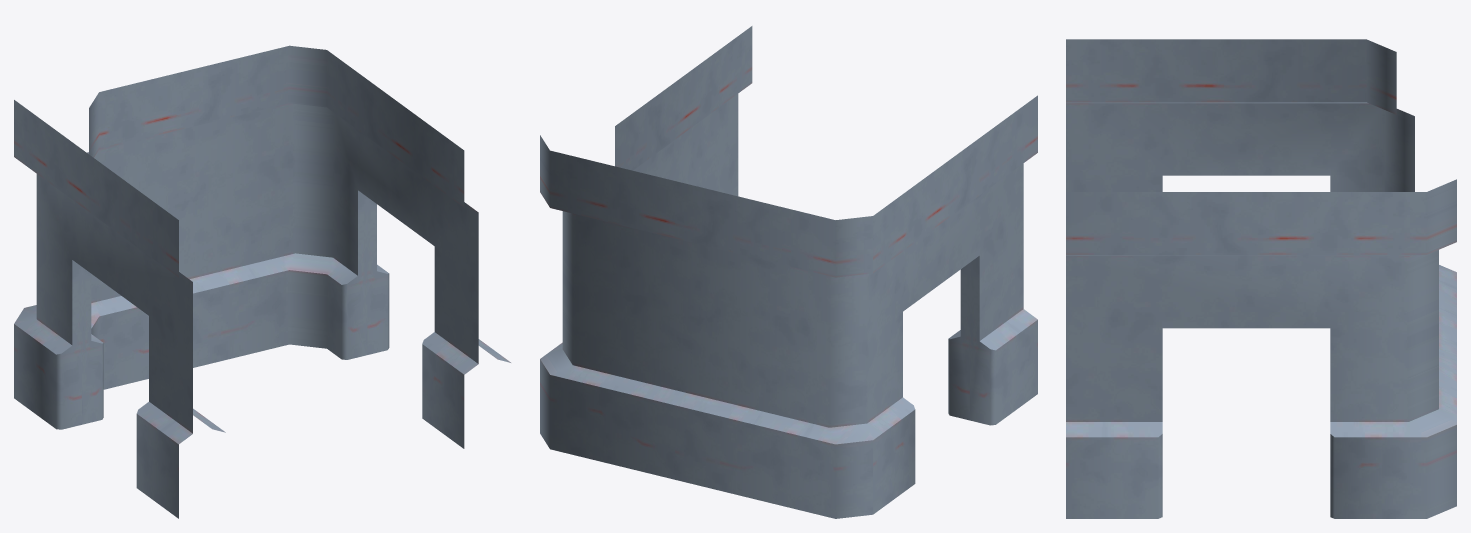
File: Wall_DoorEntrance_End_B_2.glb
3 views of the same model, side by side, from view 1: azimuth 30°, elevation 25°; view 2: azimuth 150°, elevation 25°; view 3: azimuth 270°, elevation 25° (orthographic). The views are drawn at different scales.
Visible parts, largest first — view 1: Wall_DoorEntrance_End_B_2; view 2: Wall_DoorEntrance_End_B_2; view 3: Wall_DoorEntrance_End_B_2.
Boxes of the visible parts, box(x1,y1,x2,y2) form: Wall_DoorEntrance_End_B_2: box(14, 45, 510, 518); Wall_DoorEntrance_End_B_2: box(540, 26, 1037, 518); Wall_DoorEntrance_End_B_2: box(1066, 39, 1456, 518).
Bounding box in the file's own units: 7 × 6 × 6.5.
Materials: 1 (1 with a texture image).
